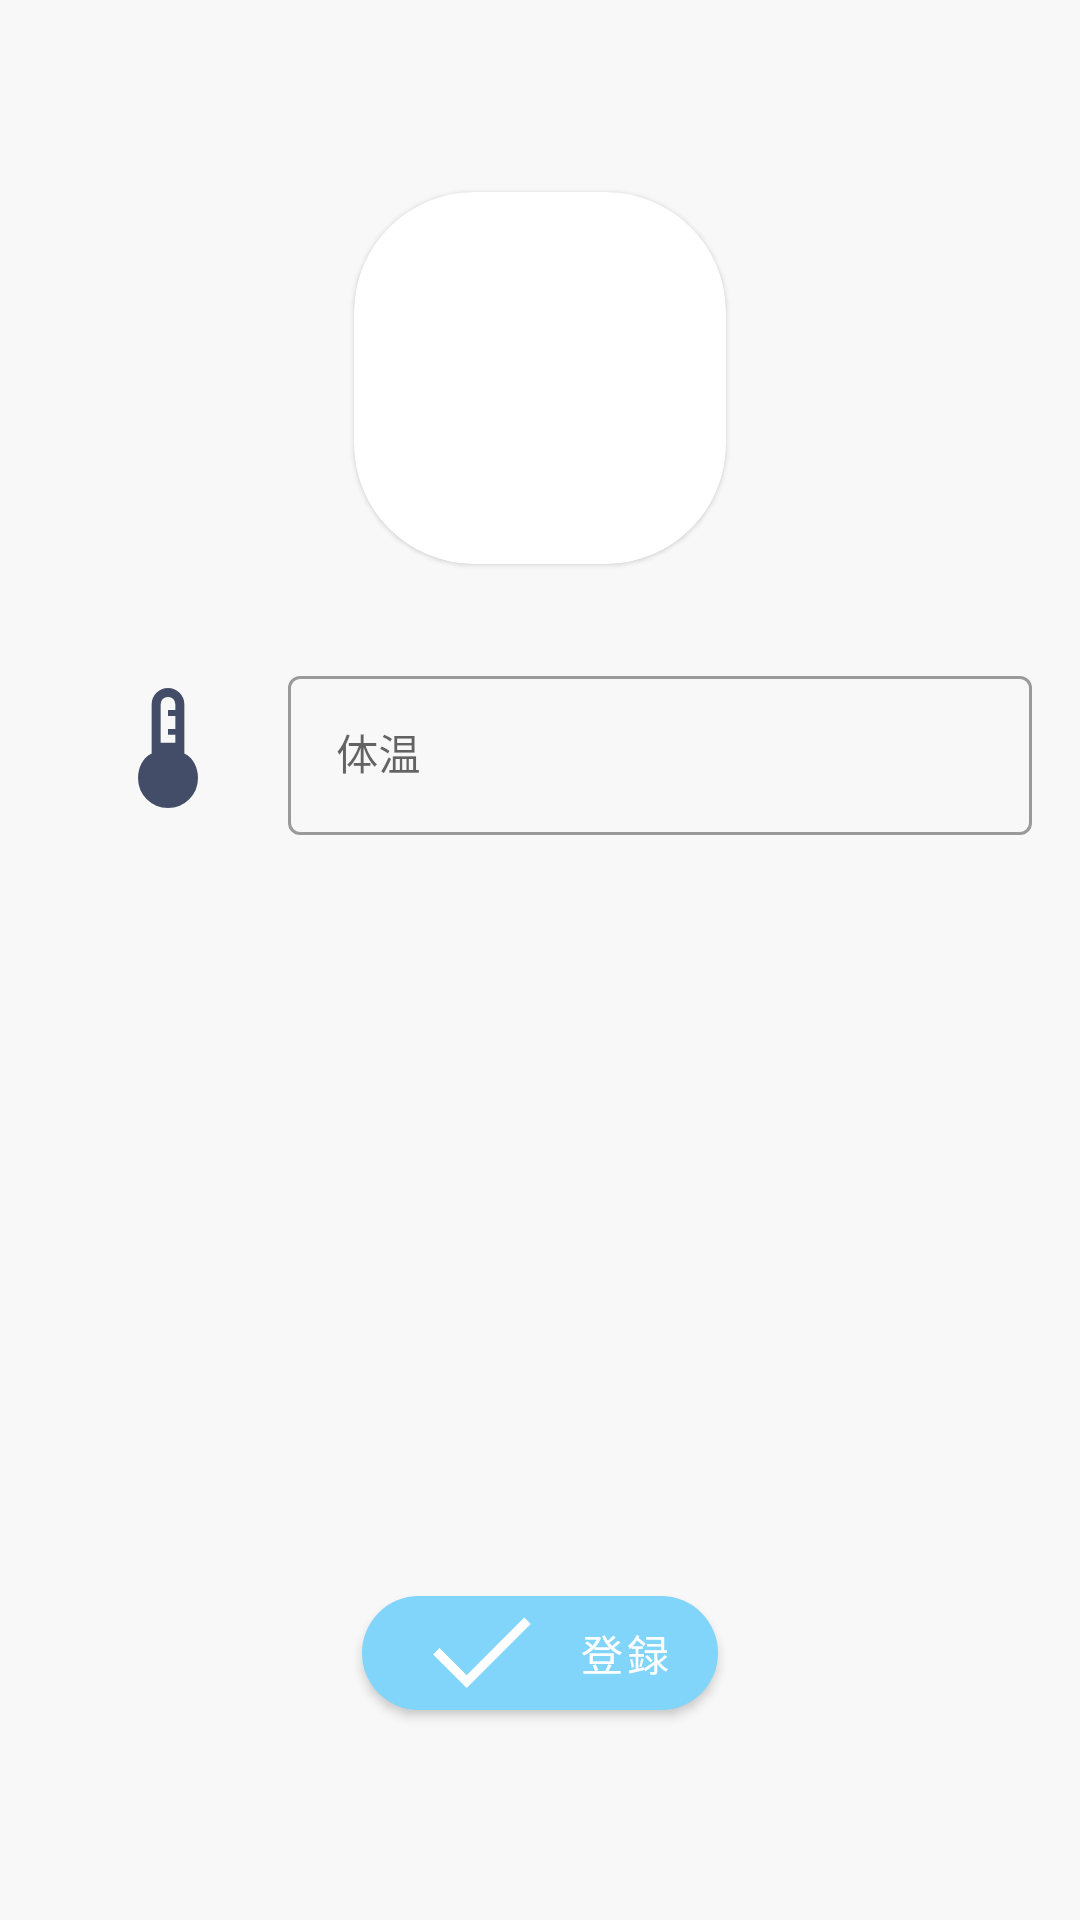

Where to tap for icons on this 1080x1920 app screen, as (x,y):
device thermostat: (168,748)
